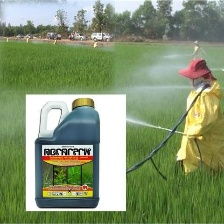insecticide: (31, 94, 105, 211)
